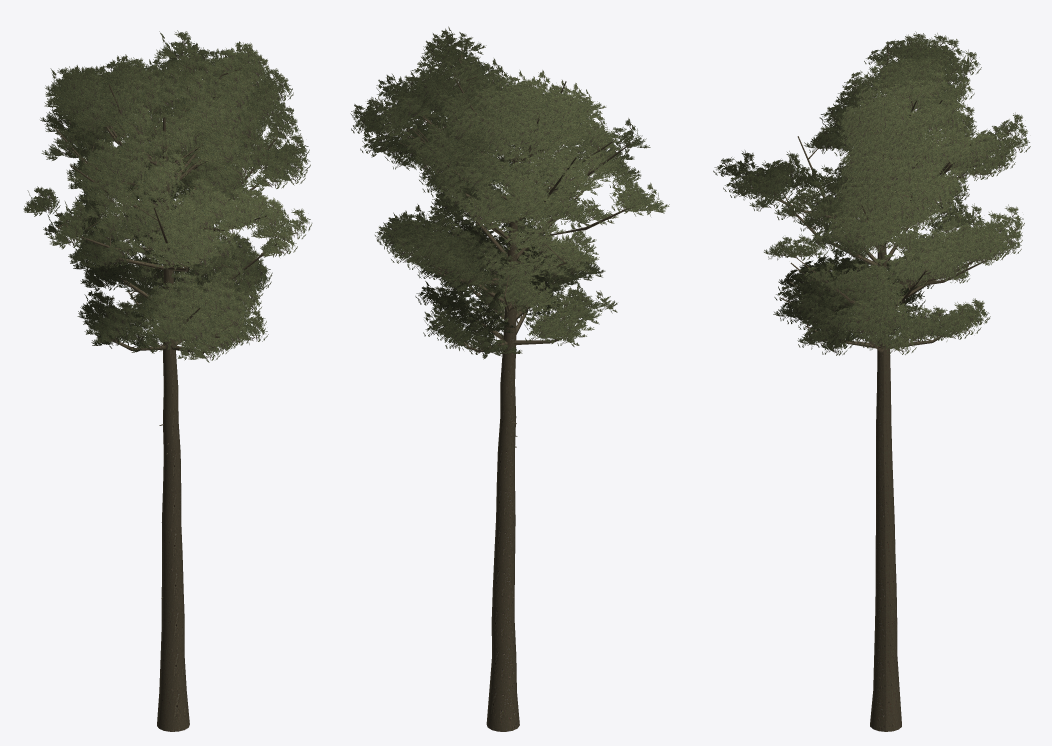
The model's file is SM_Pine_02.gltf.
3 renders of one model, left to right at view 1: azimuth 30°, elevation 25°; view 2: azimuth 150°, elevation 25°; view 3: azimuth 270°, elevation 25°, orthographic.
Parts seen in each view (by area): view 1: SM_Pine_02; view 2: SM_Pine_02; view 3: SM_Pine_02.
Part boxes in pixels (bbox=[...]): SM_Pine_02: bbox=[23, 30, 312, 731]; SM_Pine_02: bbox=[350, 26, 669, 731]; SM_Pine_02: bbox=[713, 31, 1030, 731].
Size of the model in its own units: 8.45 by 19.01 by 8.44.
Materials: 2 (2 with a texture image).
